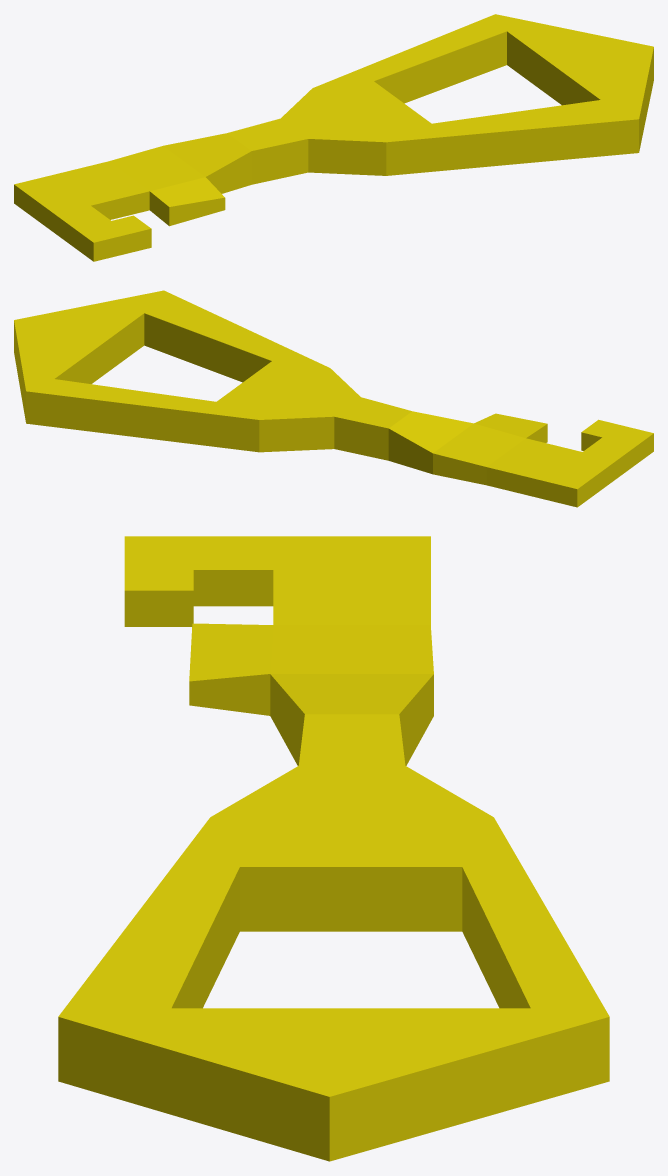
The model's file is key.fbx.
The picture shows the model from 3 angles, top to bottom: view 1: azimuth 30°, elevation 25°; view 2: azimuth 150°, elevation 25°; view 3: azimuth 270°, elevation 25°; orthographic projection. The views are drawn at different scales.
Visible parts, largest first — view 1: Cube.120; view 2: Cube.120; view 3: Cube.120.
Part boxes in pixels (x1,y1,x2,y2): Cube.120: [14, 14, 653, 261]; Cube.120: [14, 290, 653, 507]; Cube.120: [58, 536, 609, 1161].
Size of the model in its own units: 32.63 by 1.71 by 13.23.
